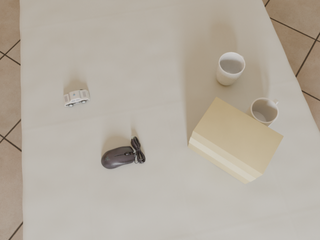box: (188, 97, 283, 184)
cup: (245, 98, 279, 127), (216, 52, 245, 85)
mouse: (101, 136, 145, 169)
toy_car: (63, 90, 90, 107)
